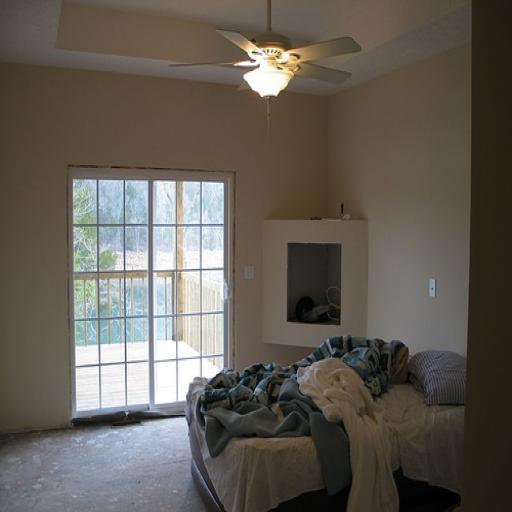bed: (146, 310, 486, 512)
